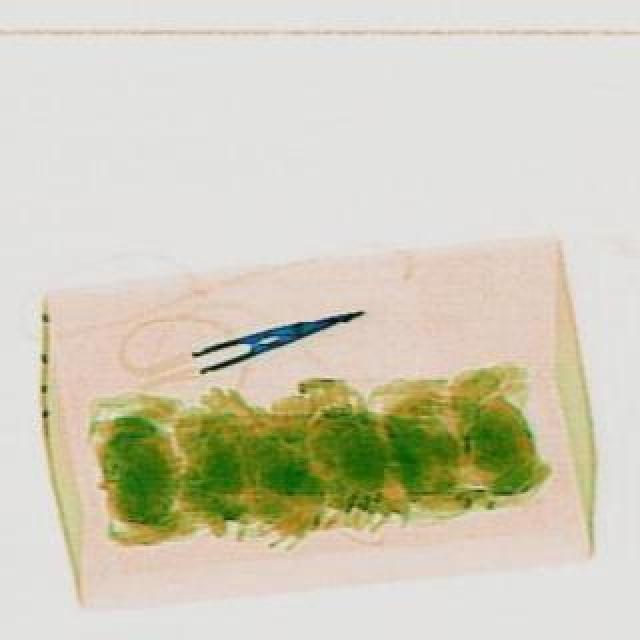knife: (184, 298, 364, 374)
